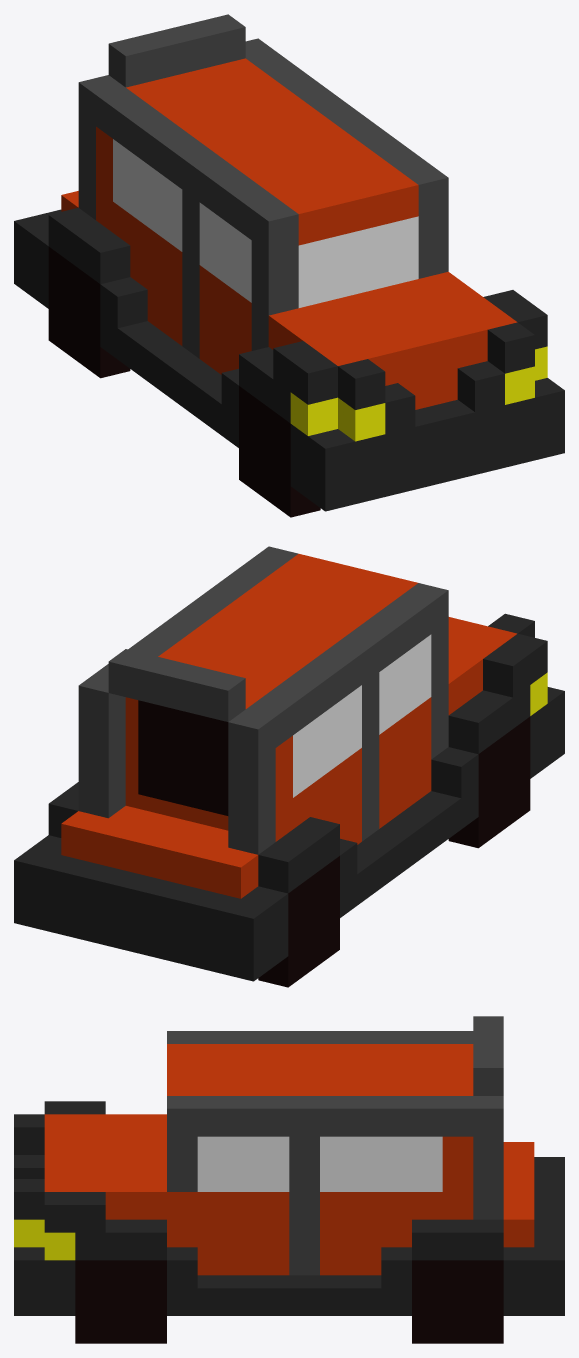
Rendered from CAR4.obj.
3 renders of one model, top to bottom at view 1: azimuth 30°, elevation 25°; view 2: azimuth 150°, elevation 25°; view 3: azimuth 270°, elevation 25°, orthographic. The views are drawn at different scales.
Bounding box in the file's own units: 0.8 × 0.9 × 1.8.
1 material, 1 textured.
